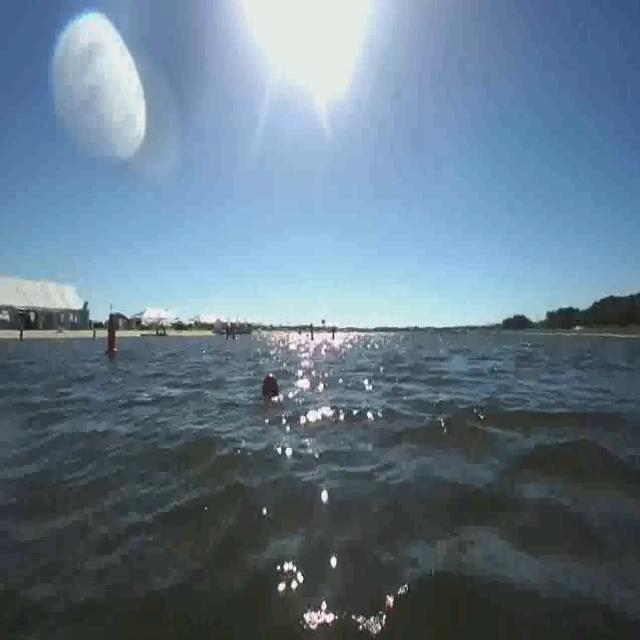red-buoy: (262, 371, 282, 402)
red-column-buoy: (104, 313, 121, 360)
